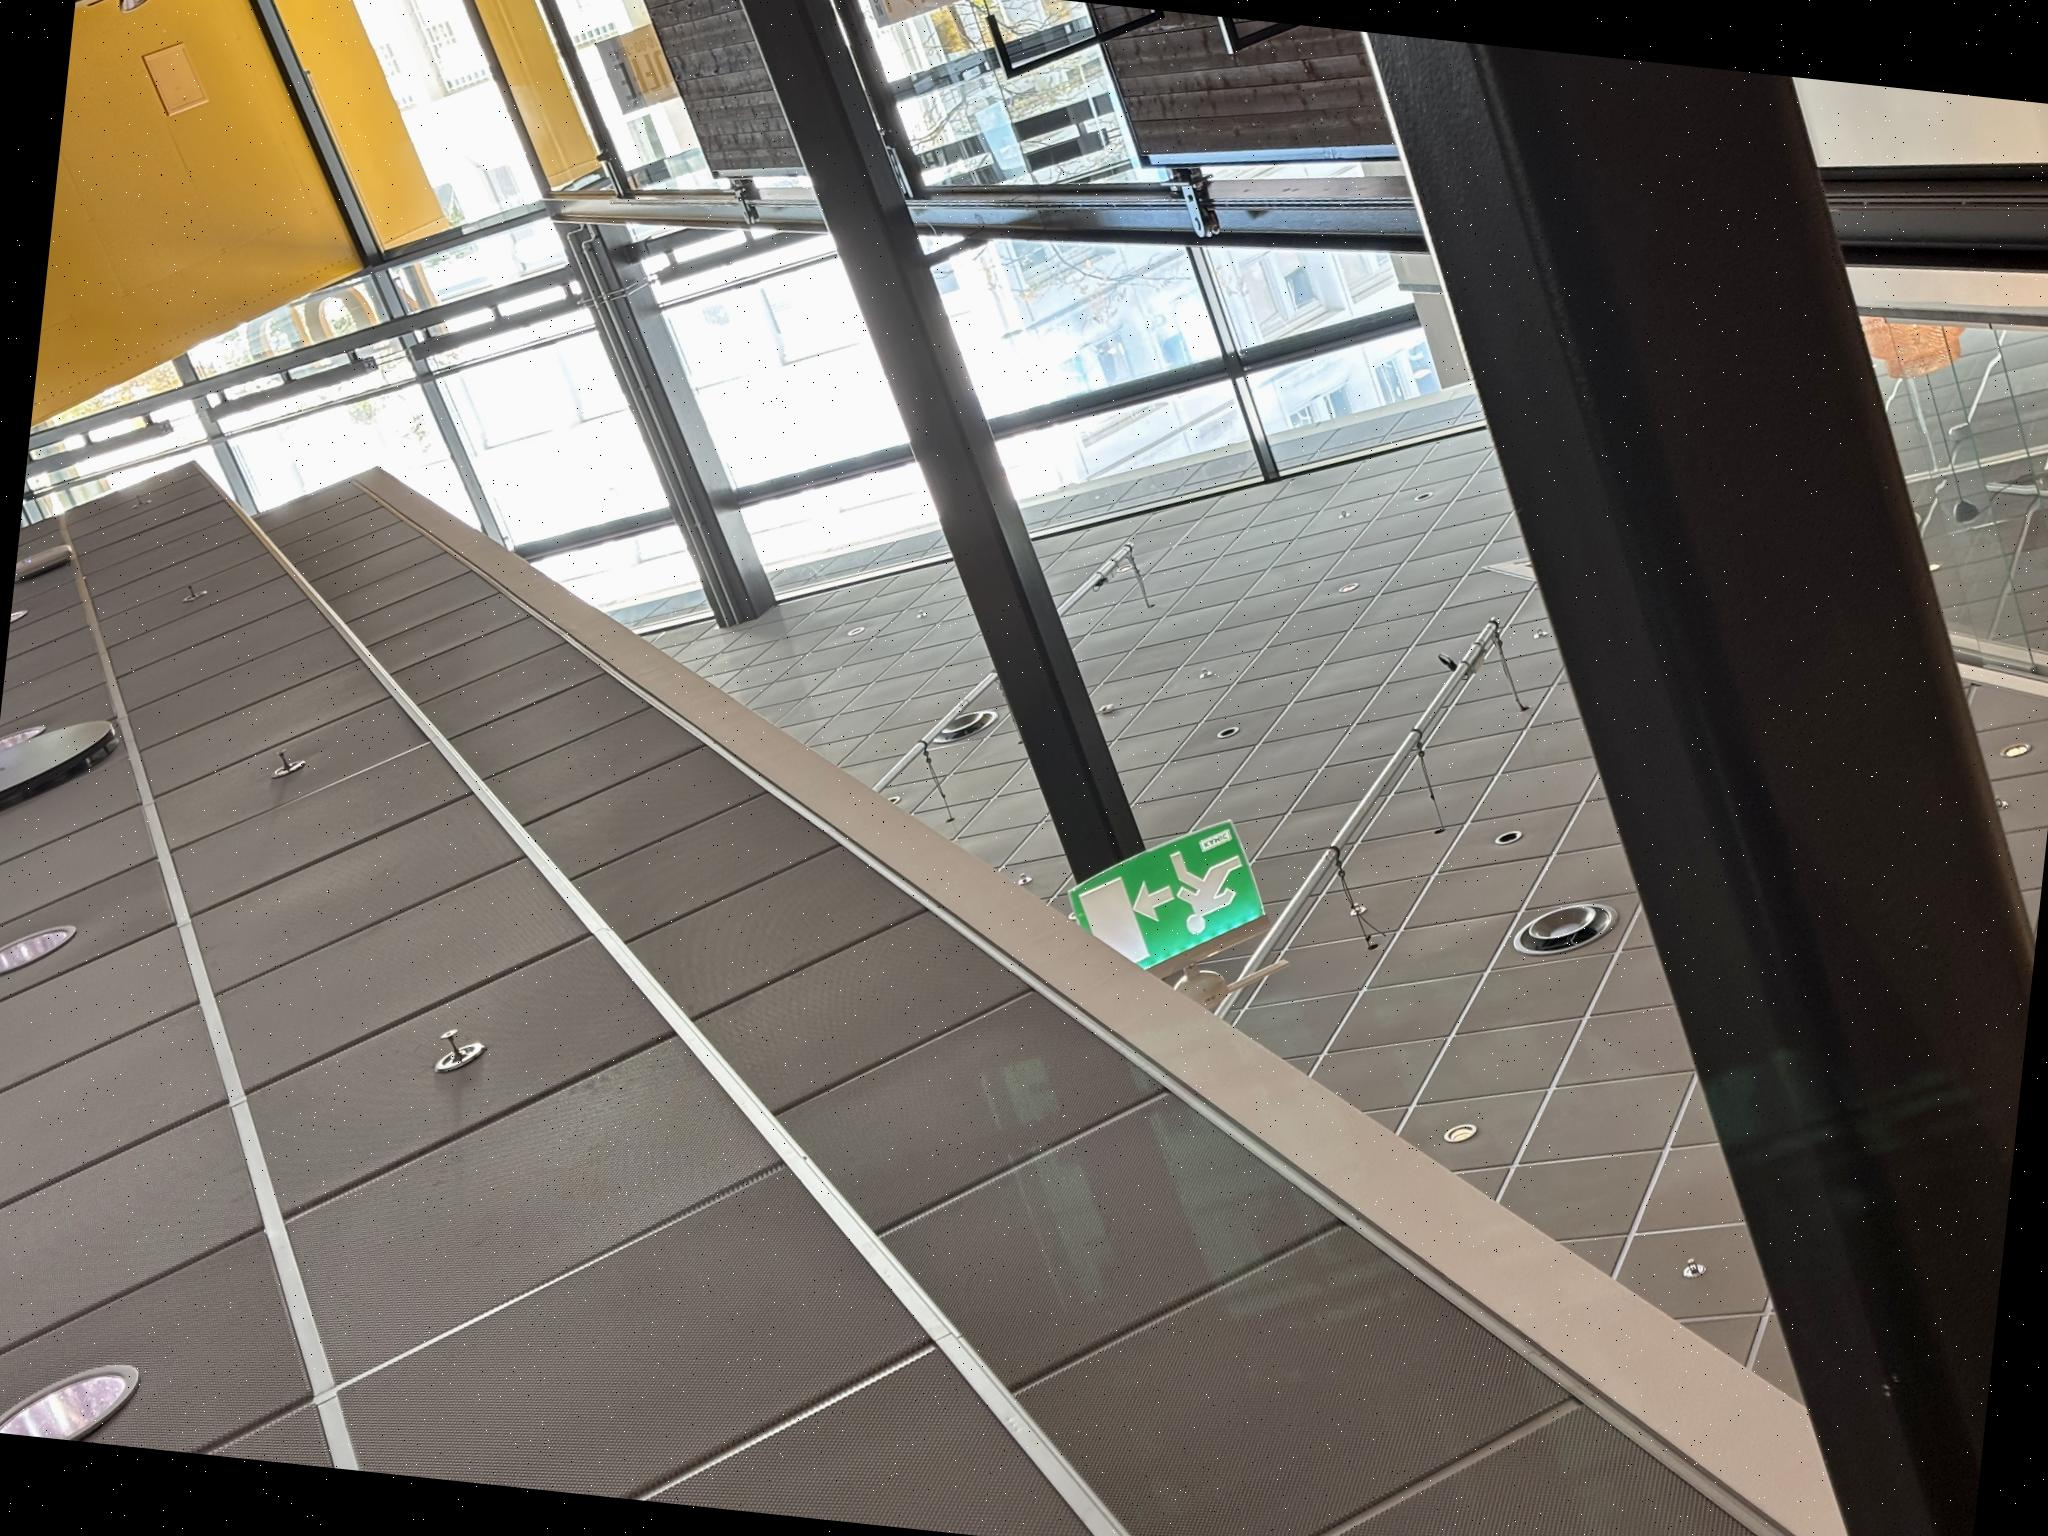exit_sign: (1071, 818, 1282, 978)
